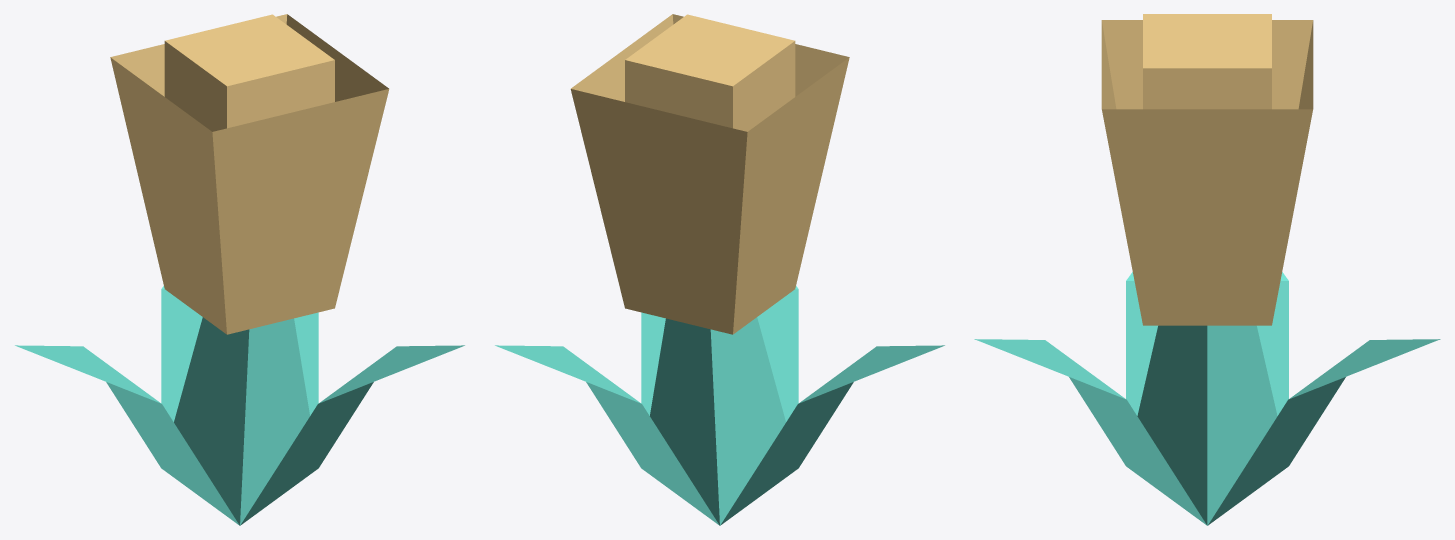
File: k-flower.lod.glb
The picture shows the model from 3 angles, left to right: view 1: azimuth 30°, elevation 25°; view 2: azimuth 150°, elevation 25°; view 3: azimuth 270°, elevation 25°; orthographic projection. The views are drawn at different scales.
Parts seen in each view (by area): view 1: flower_yellowA; view 2: flower_yellowA; view 3: flower_yellowA.
Part boxes in pixels (left/top/right/bottom): flower_yellowA: left=15, top=14, right=464, bottom=525; flower_yellowA: left=495, top=14, right=944, bottom=525; flower_yellowA: left=974, top=14, right=1440, bottom=525.
Size of the model in its own units: 0.1591 by 0.1925 by 0.1811.
